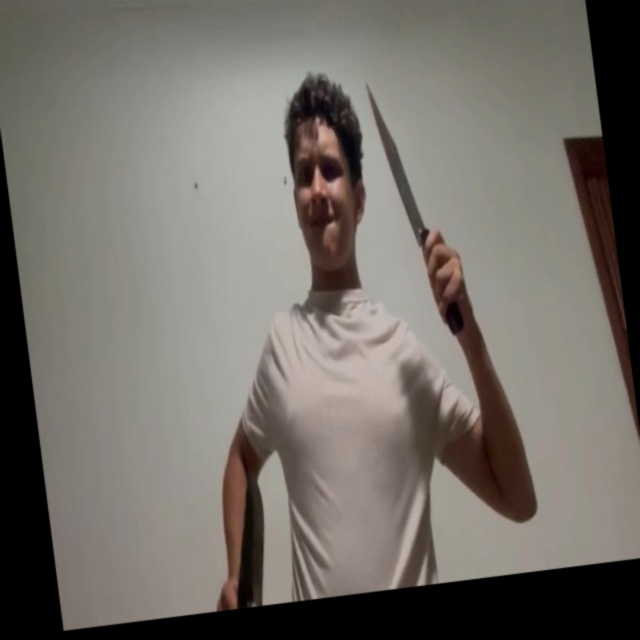Sharp-Object: (365, 80, 426, 249)
